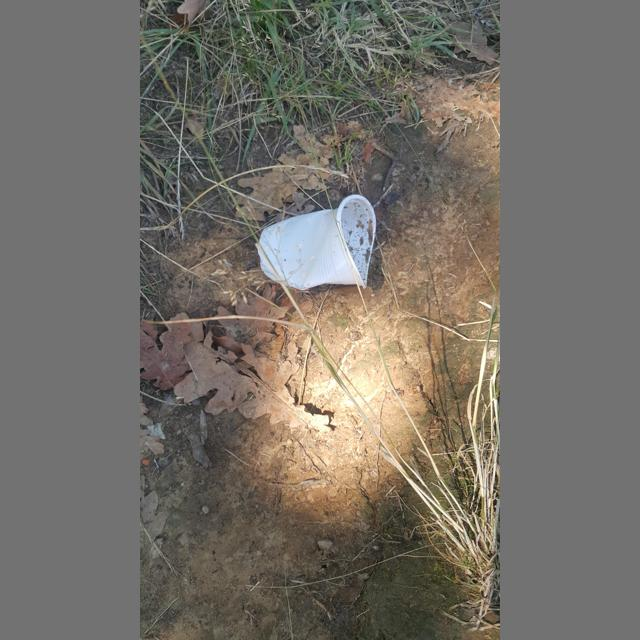litter: (258, 195, 376, 290)
